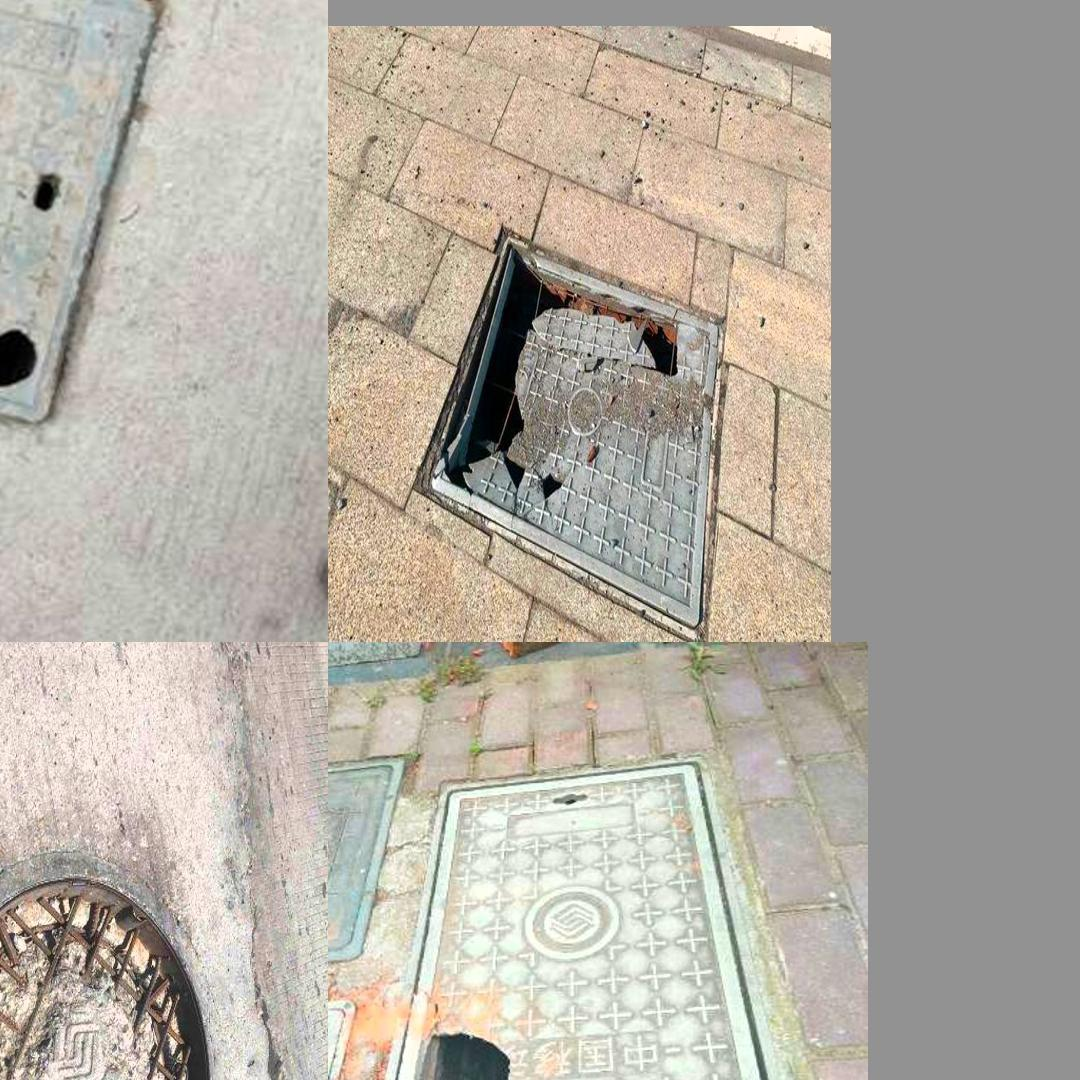broke: (368, 754, 797, 1080), (412, 215, 719, 640), (0, 0, 178, 430), (0, 856, 237, 1080)
